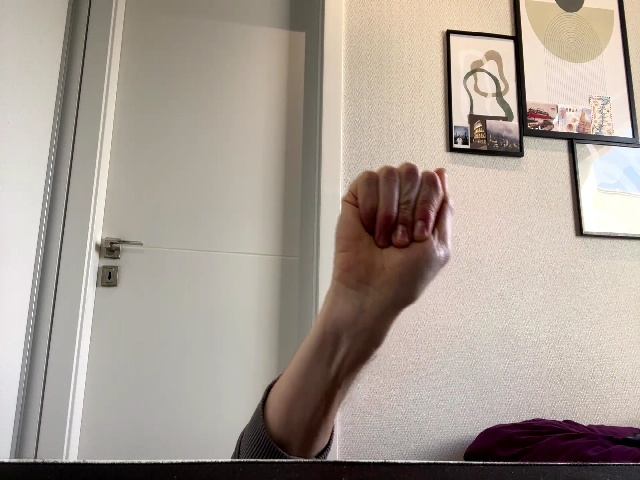A: (334, 162, 454, 311)
